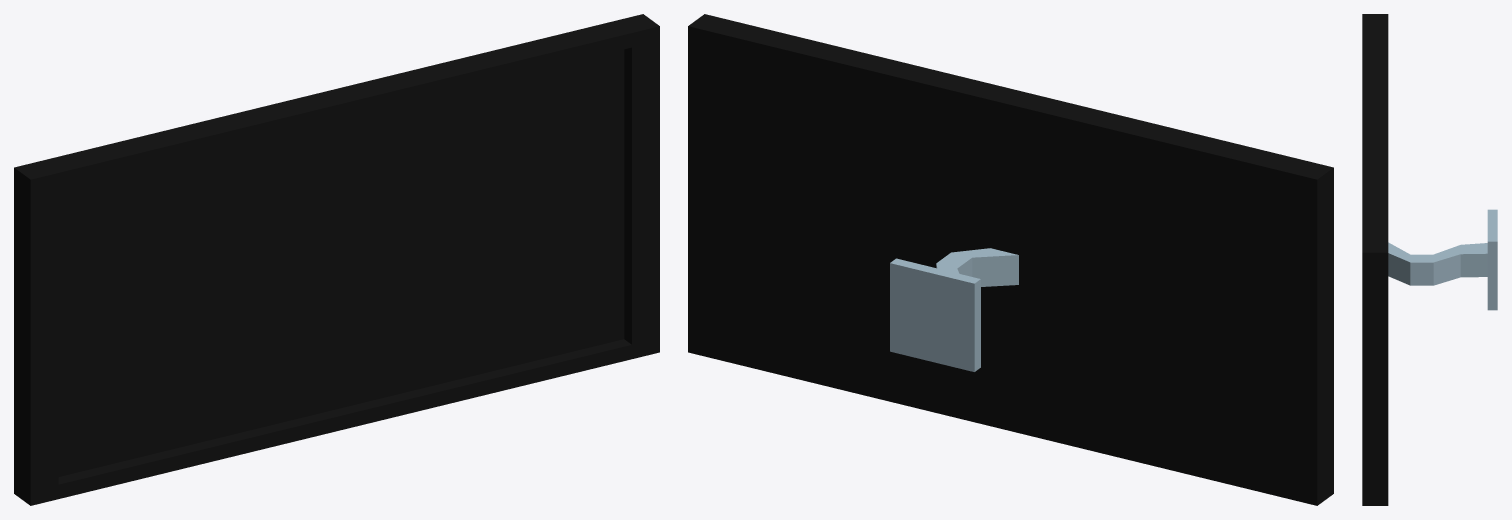
3 renders of one model, left to right at view 1: azimuth 30°, elevation 25°; view 2: azimuth 150°, elevation 25°; view 3: azimuth 270°, elevation 25°, orthographic. The views are drawn at different scales.
Parts seen in each view (by area): view 1: Cube.004; view 2: Cube.004; view 3: Cube.004.
Part boxes in pixels (box(x1,y1,x2,y2)): Cube.004: box(14, 14, 659, 505); Cube.004: box(688, 14, 1333, 505); Cube.004: box(1362, 14, 1497, 505).
Size of the model in its own units: 4.04 by 2 by 0.9674.
